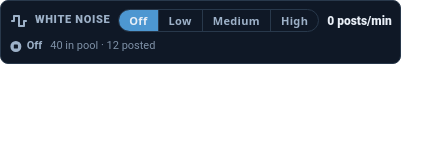
it: NoiseControl (Gate-1 folds) › serialises writes: a choice made mid-write waits, and only the latest is sent
What coordinates should you click on to do the following:
click the radio button labelled "Low"
I would click on:
 (180, 20)
Its box is [158,10,202,31].
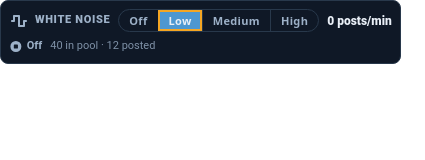
What coordinates should you click on to do the following:
click the radio button labelled "Medium"
I would click on:
 (236, 20)
Its box is [202,10,270,31].
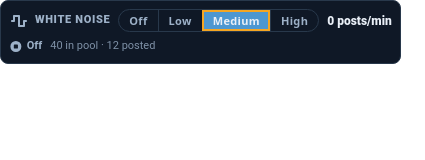
What coordinates should you click on to do the following:
click the radio button labelled "High"
I would click on:
 (294, 20)
Its box is [270,10,318,31].
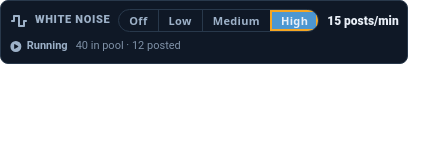
Result: the text with test id "noise-rate" reads "15 posts/min" at [327,14,399,28]
